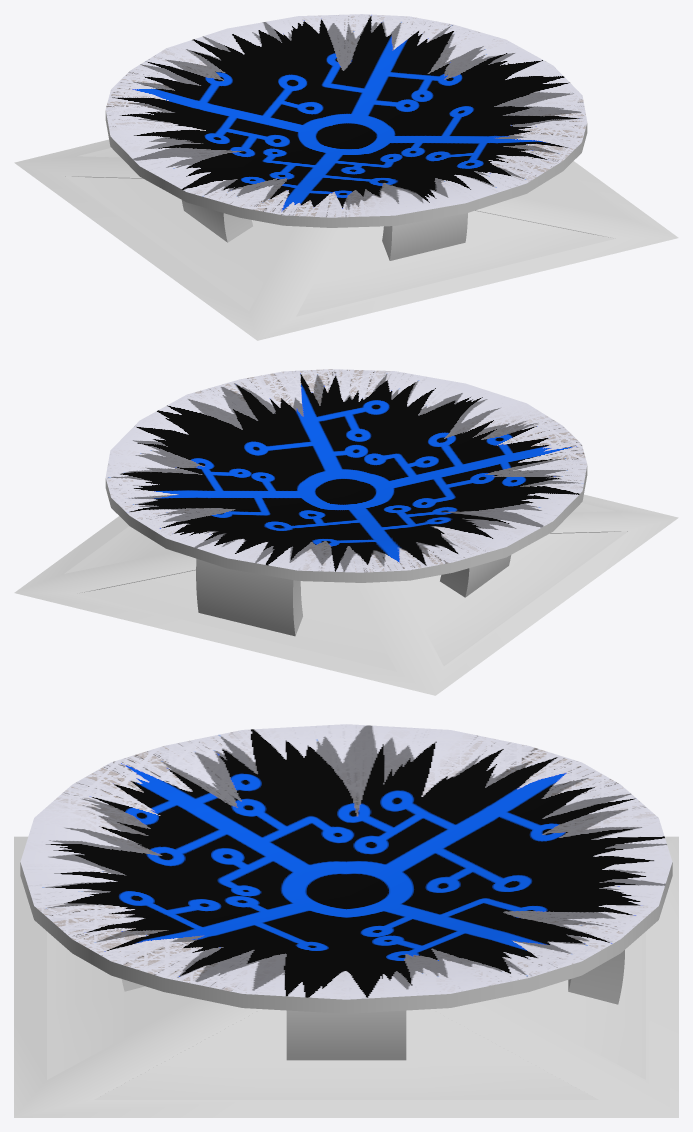
The model's file is recieverblue.fbx.
3 views of the same model, one above another, from view 1: azimuth 30°, elevation 25°; view 2: azimuth 150°, elevation 25°; view 3: azimuth 270°, elevation 25° (orthographic). The views are drawn at different scales.
Parts seen in each view (by area): view 1: Cube.001, Cube.003, Cube, Cube.002; view 2: Cube.001, Cube.003, Cube, Cube.002; view 3: Cube.001, Cube.003, Cube, Cube.002.
Part boxes in pixels (bbox=[...]): Cube.001: bbox=[105, 14, 587, 217]; Cube.003: bbox=[64, 148, 628, 316]; Cube: bbox=[14, 139, 678, 340]; Cube.002: bbox=[105, 111, 587, 227]; Cube.001: bbox=[105, 369, 587, 572]; Cube.003: bbox=[64, 503, 628, 671]; Cube: bbox=[14, 494, 678, 695]; Cube.002: bbox=[105, 466, 587, 582]; Cube.001: bbox=[20, 724, 672, 999]; Cube.003: bbox=[47, 931, 645, 1099]; Cube: bbox=[14, 836, 678, 1117]; Cube.002: bbox=[20, 862, 672, 1013].
Size of the model in its own units: 200 by 38.29 by 200.
4 materials, 1 textured.
